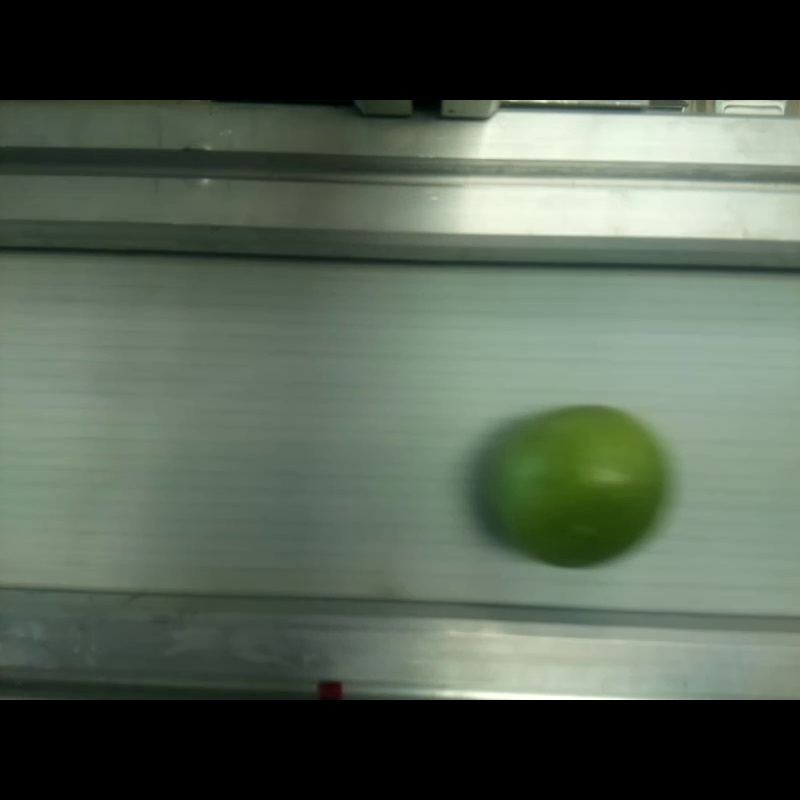lime: (488, 407, 664, 571)
